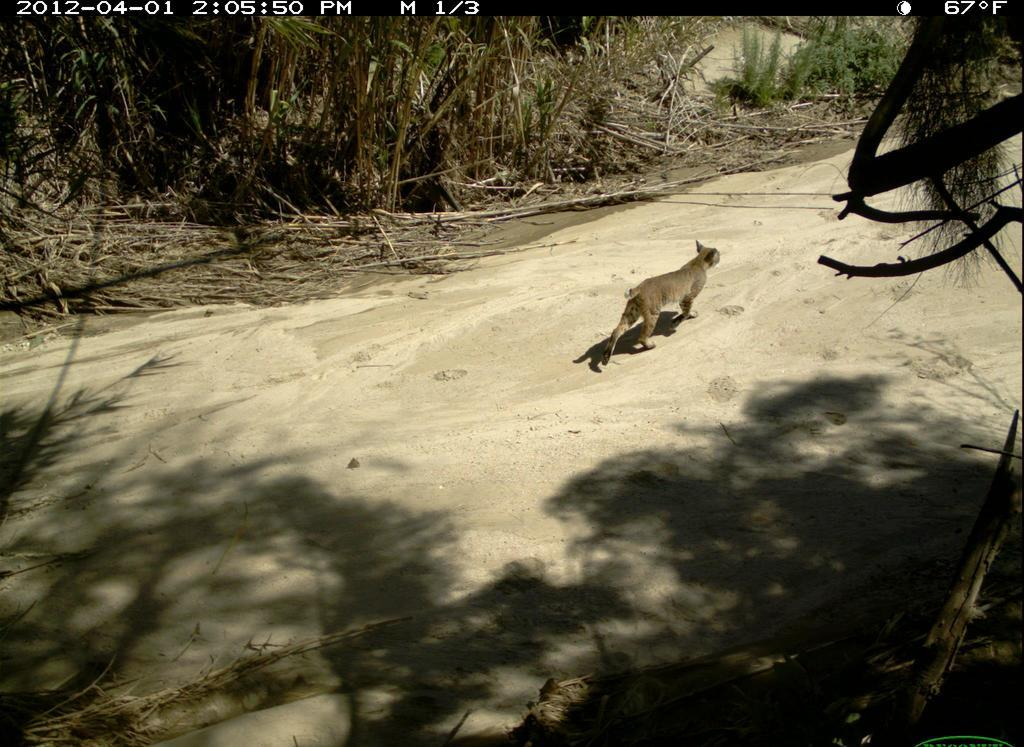bobcat: (588, 230, 748, 390)
